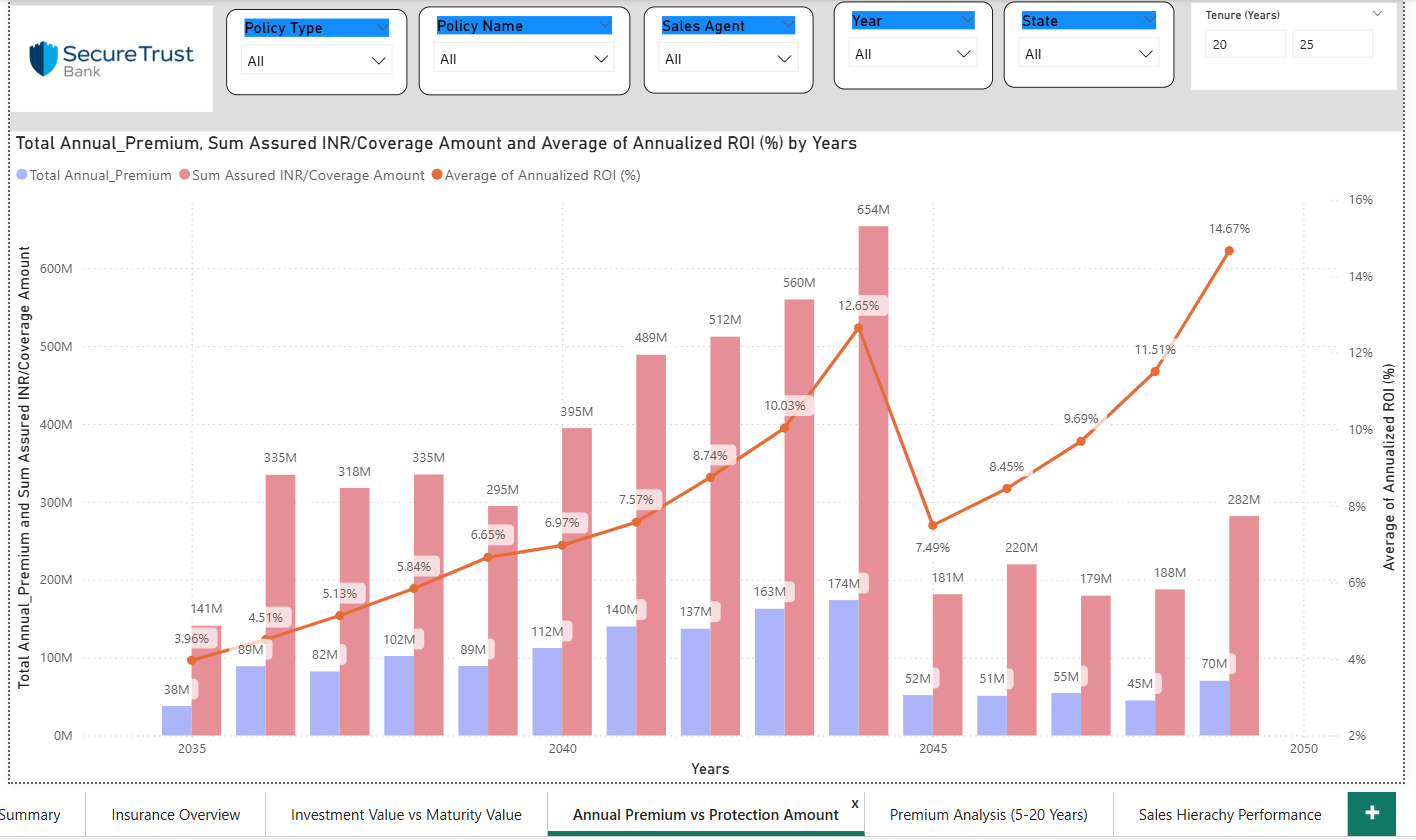

What the dashboard file says about the page in this screenshot:
{"tool":"powerbi","page":{"name":"Annual Premium vs Protection Amount","canvas":[1280,720],"ordinal":3},"visuals":[{"type":"slicer","fields":{"Values":["DM Policy_Type.Policy Type"]},"box":[198.3,8.8,166.6,79.1],"z":0},{"type":"slicer","fields":{"Values":["DM Policy_Protection_Plan.Policy Name"]},"box":[375.7,6.4,194.2,81.5],"z":1000},{"type":"slicer","fields":{"Values":["DM Insurance_Agent_Table.Sales Agent"]},"box":[582.6,6.4,155.8,80.3],"z":2000},{"type":"slicer","fields":{"Values":["FCT Insurance_Policy_Table.Year"]},"box":[756.6,2.8,146,81],"z":3000},{"type":"slicer","fields":{"Values":["DM Customer_Detail_Table.State"]},"box":[913.8,2.8,157.1,79.4],"z":4000},{"type":"lineClusteredColumnComboChart","fields":{"Y2":["Avg(FCT Insurance_Policy_Table.Annualized ROI (%))"],"Y":["Measure Table.Total Annual_Premium","Sum(FCT Insurance_Policy_Table.Sum Assured INR/Coverage Amount)"],"Category":["FCT Insurance_Policy_Table.Tenure Date","FCT Insurance_Policy_Table.Date Hierarchy.Years","FCT Insurance_Policy_Table.Date Hierarchy.Quarters","FCT Insurance_Policy_Table.Date Hierarchy.Months","FCT Insurance_Policy_Table.Date Hierarchy.Days"]},"box":[0,121.2,1279.7,598.7],"z":5000},{"type":"slicer","fields":{"Values":["FCT Insurance_Policy_Table.Tenure (Years)"]},"box":[1085.2,3.2,188.6,80],"z":6000},{"type":"image","box":[0,4.3,186.1,101],"z":7000}]}

Visuals, with their boxes on the page's 1280x720 design canvas (x1, y1, x2, y2). These are canvas units, not pixel positions in the 1416x840 screenshot, which may show the page scaled, cropped or inside an application window:
slicer - DM Policy_Type.Policy Type: crop(198, 9, 365, 88)
slicer - DM Policy_Protection_Plan.Policy Name: crop(376, 6, 570, 88)
slicer - DM Insurance_Agent_Table.Sales Agent: crop(583, 6, 738, 87)
slicer - FCT Insurance_Policy_Table.Year: crop(757, 3, 903, 84)
slicer - DM Customer_Detail_Table.State: crop(914, 3, 1071, 82)
lineClusteredColumnComboChart - Avg(FCT Insurance_Policy_Table.Annualized ROI (%)) x Measure Table.Total Annual_Premium: crop(0, 121, 1280, 720)
slicer - FCT Insurance_Policy_Table.Tenure (Years): crop(1085, 3, 1274, 83)
image: crop(0, 4, 186, 105)
